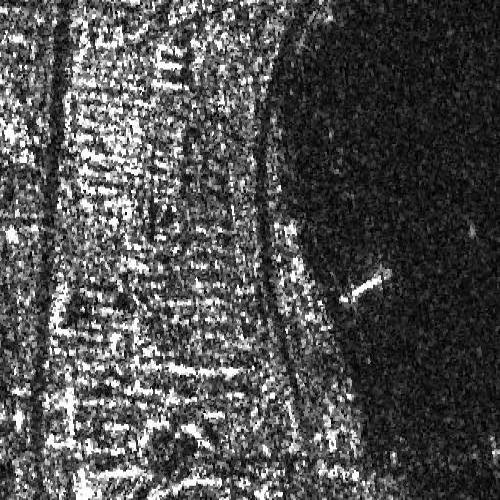ship: (337, 267, 393, 307)
